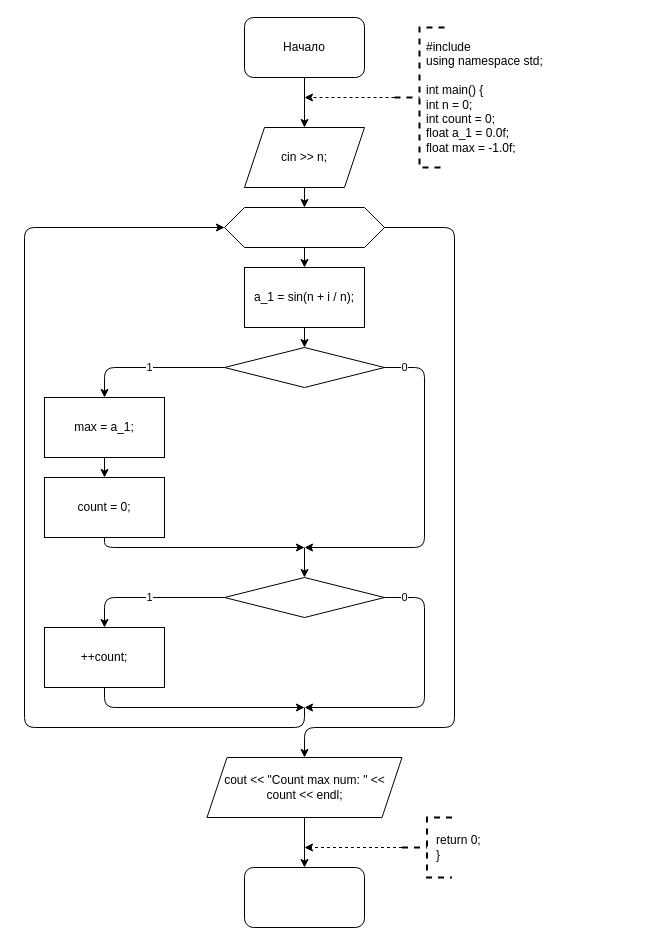
This 662x945 diagram has some shape labels left out. The centre of each missing label's shape, as x and y in pixels:
for (int i = 0; i < n; ++i): the point at 304,227
if (a_1 == max): the point at 304,597
if (a_1 > max): the point at 304,367
Конец: the point at 304,897
